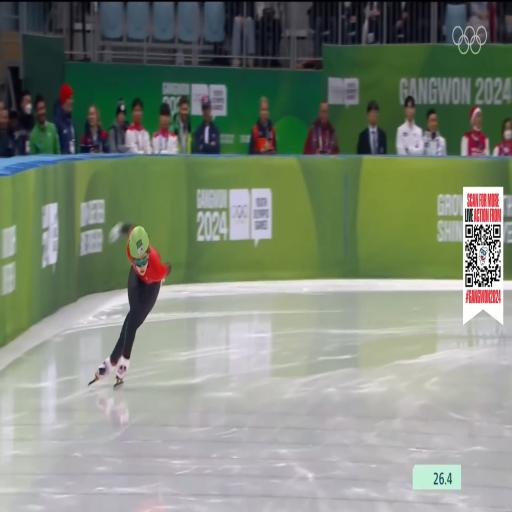Skater: (90, 223, 170, 387)
